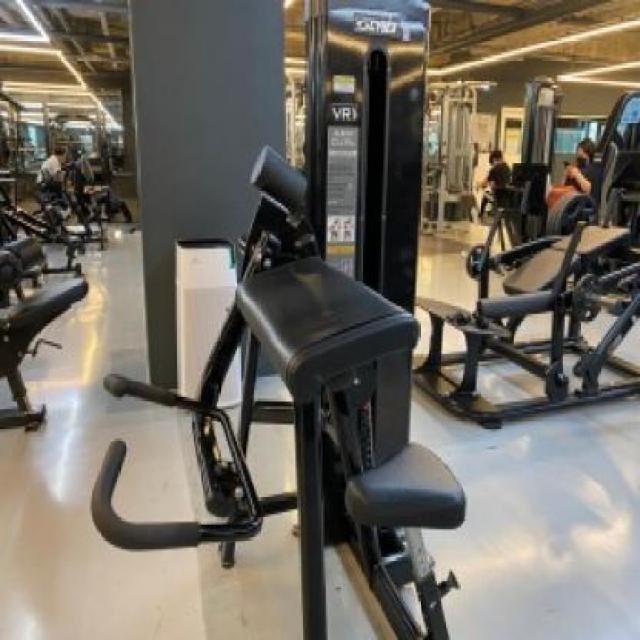arm curl machine: (88, 251, 463, 640)
